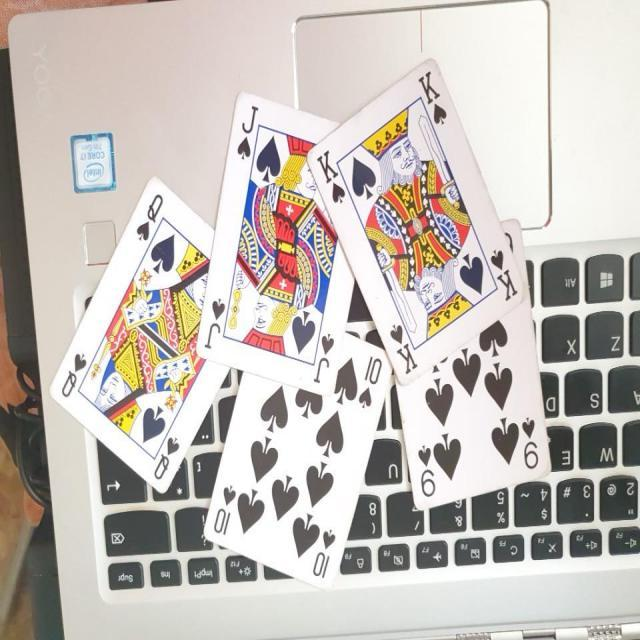10 of spades: (200, 308, 396, 604)
9 of spades: (392, 207, 558, 516)
jack of spades: (193, 85, 365, 396)
king of spades: (302, 60, 527, 384)
queen of spades: (50, 170, 244, 496)
